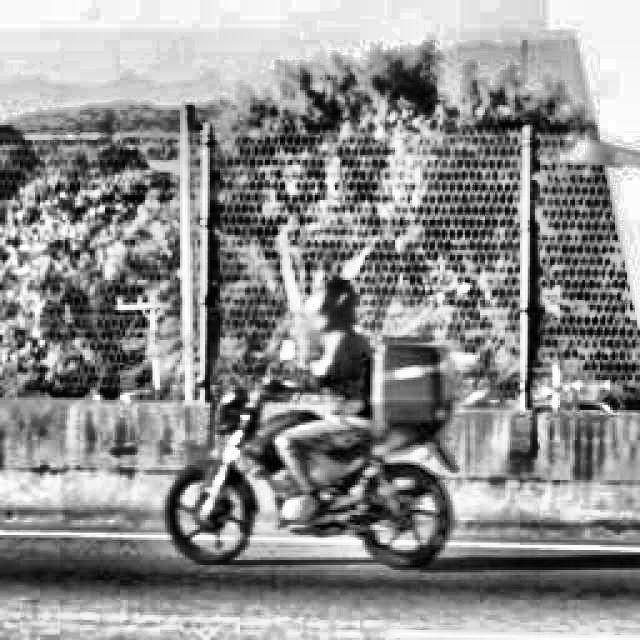motorcycle: (162, 323, 496, 568)
